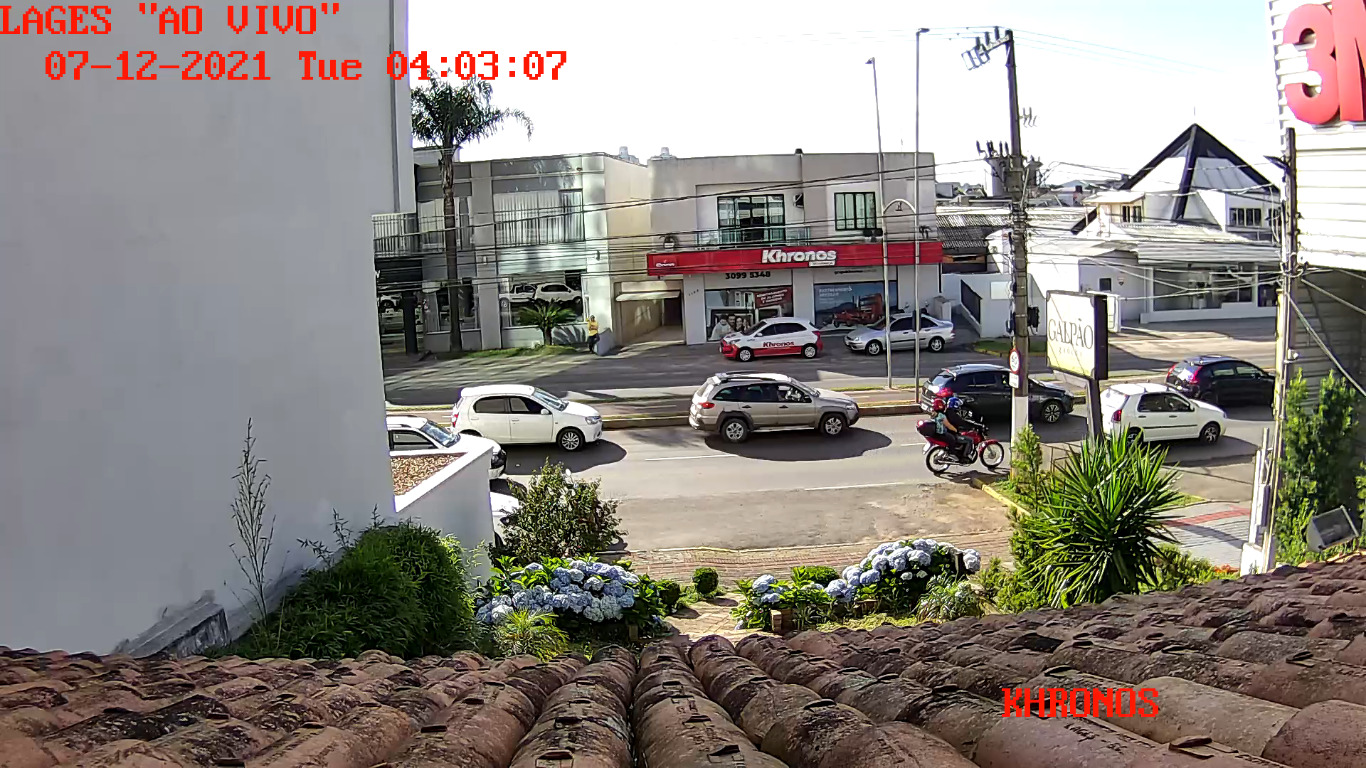car: (688, 372, 861, 442), (450, 382, 600, 452), (920, 362, 1074, 426), (1088, 380, 1226, 447)
